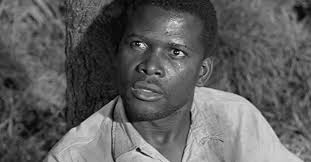black_male: (93, 8, 211, 132)
